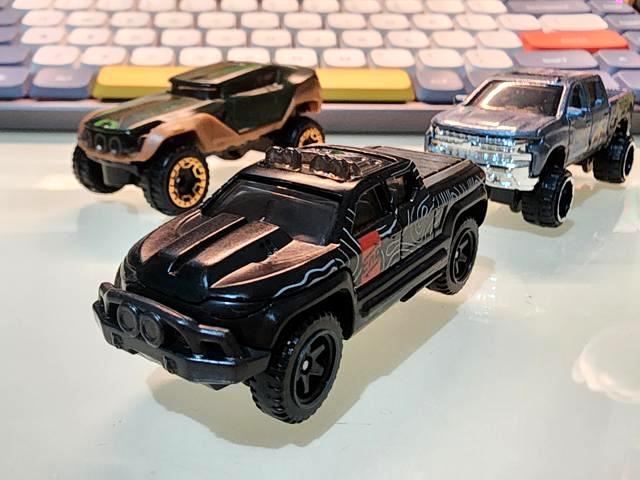toy-car: (92, 144, 489, 424), (72, 60, 325, 217), (424, 67, 636, 228)
